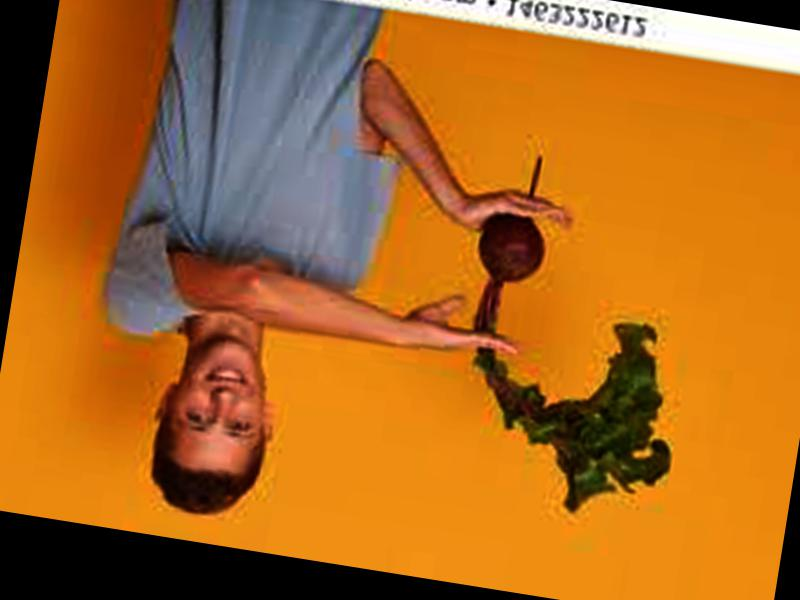Beet: (440, 150, 715, 526)
